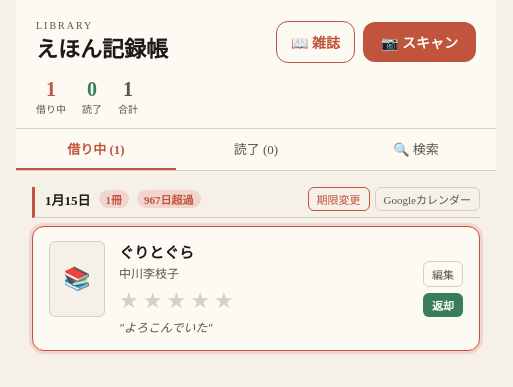
Test case: MainApp — tabs › when a search matches a memo, it should show that book
The image size is (513, 387).
Click the button "🔍 検索".
click(416, 150)  # box 336,129 -> 496,170
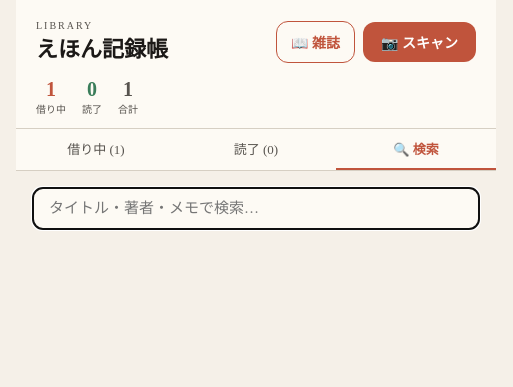
Type "よろこ" into the field with placeholder "タイトル・著者・メモで検索…".
click(256, 208); type("よろこ")  # box 32,187 -> 480,230
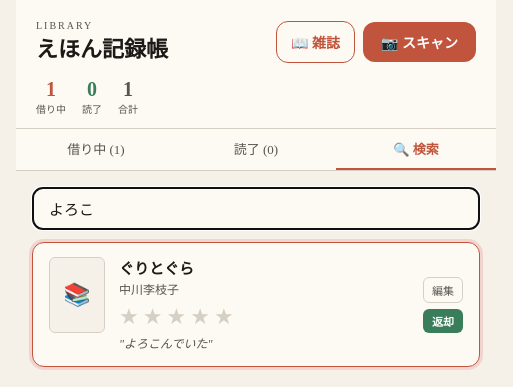
Expected: the text "ぐりとぐら" is shown, 119,261 -> 194,277
